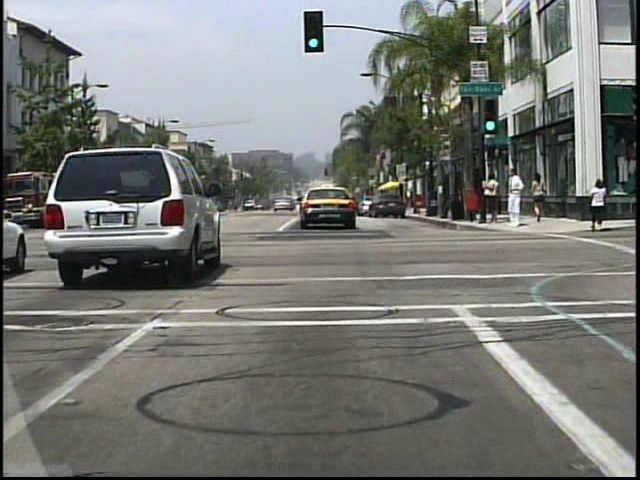person: (505, 170, 525, 229), (588, 178, 607, 232), (532, 173, 549, 224), (485, 171, 500, 228), (405, 189, 414, 214)
